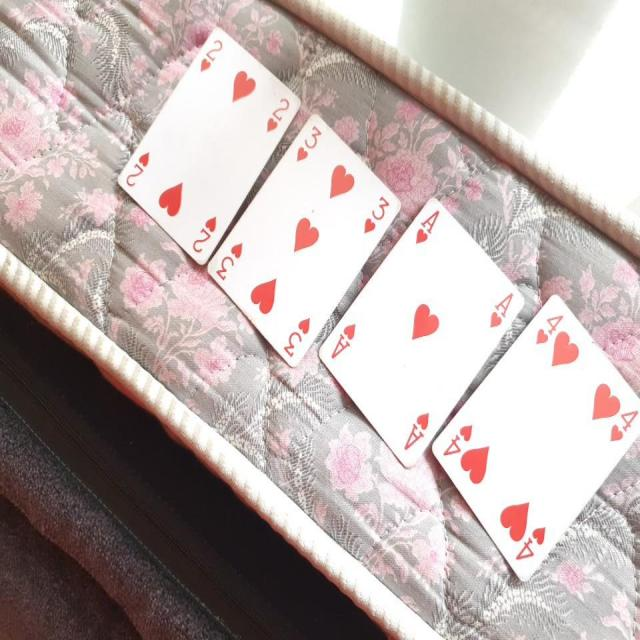2 Hearts: (110, 20, 305, 266)
3 Hearts: (201, 107, 406, 374)
4 Hearts: (422, 288, 640, 595)
A Hearts: (316, 186, 526, 484)
